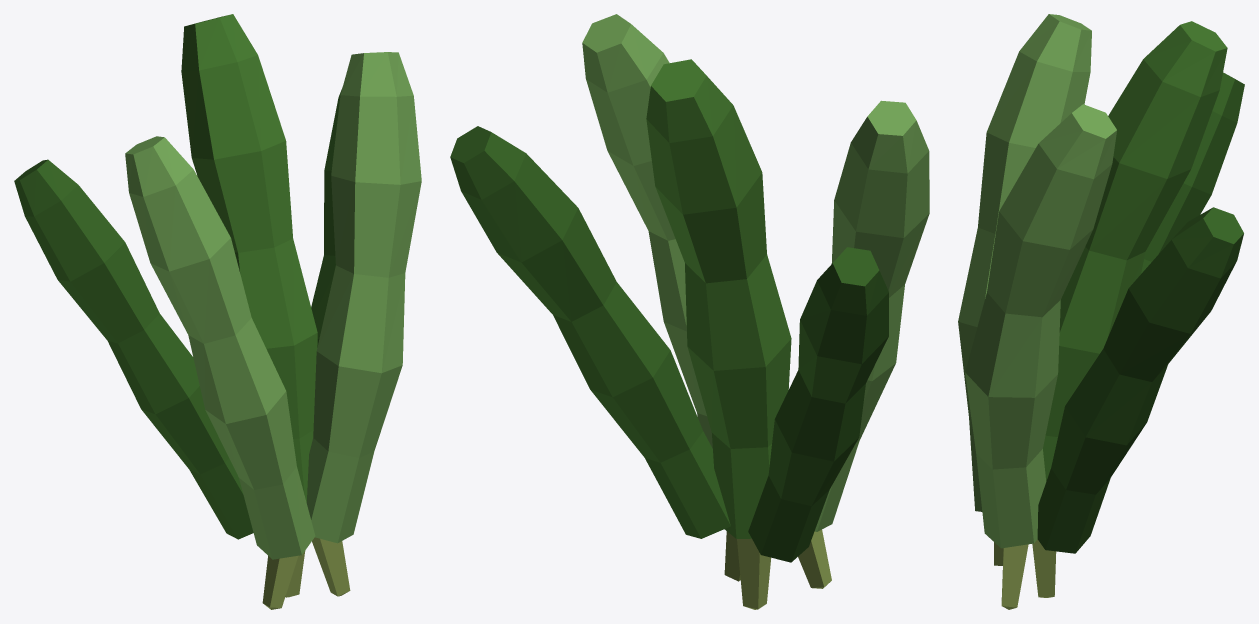
The model's file is greenbean.gltf.
3 renders of one model, left to right at view 1: azimuth 30°, elevation 25°; view 2: azimuth 150°, elevation 25°; view 3: azimuth 270°, elevation 25°, orthographic. The views are drawn at different scales.
Visible parts, largest first — view 1: greenbean; view 2: greenbean; view 3: greenbean.
Boxes of the visible parts, left/top/right/bottom form: greenbean: left=14, top=14, right=421, bottom=609; greenbean: left=450, top=14, right=929, bottom=609; greenbean: left=958, top=14, right=1244, bottom=609.
Size of the model in its own units: 0.1487 by 0.2028 by 0.0925.
